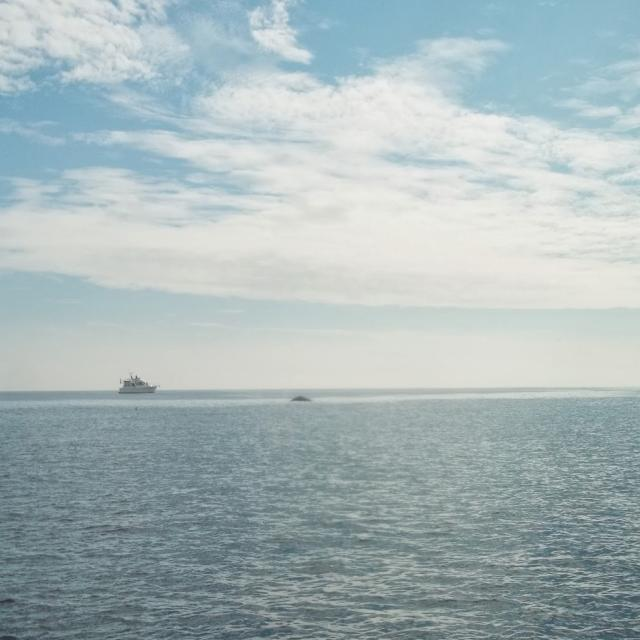houseboat: (115, 368, 160, 397)
